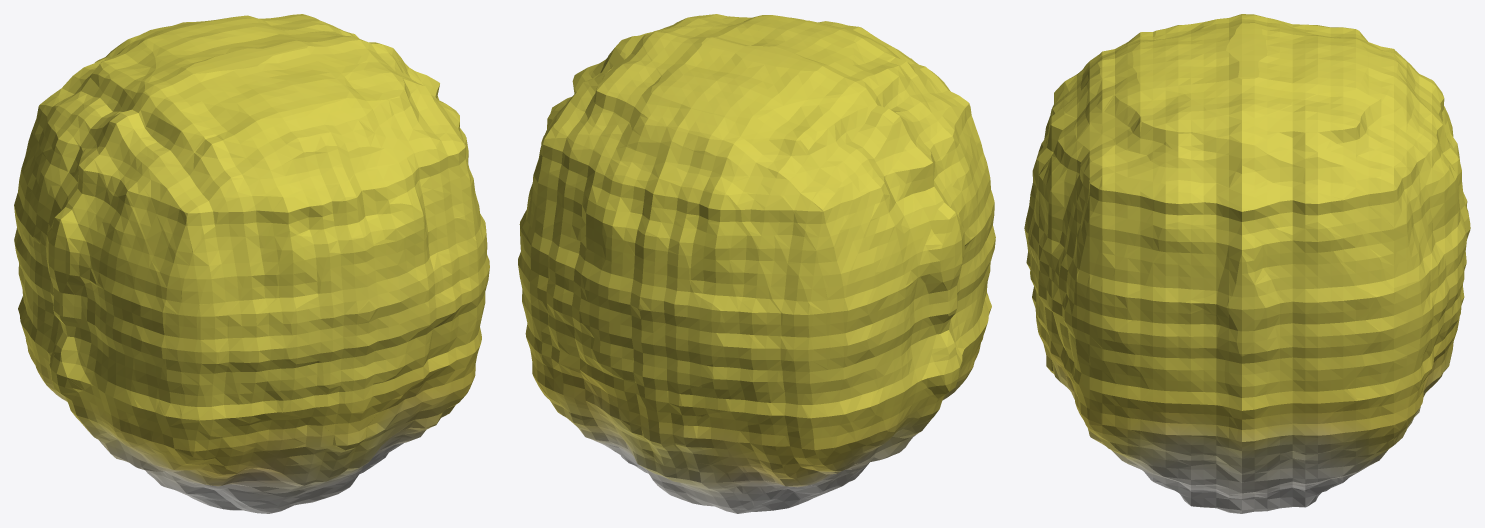
3 views of the same model, side by side, from view 1: azimuth 30°, elevation 25°; view 2: azimuth 150°, elevation 25°; view 3: azimuth 270°, elevation 25° (orthographic).
Parts seen in each view (by area): view 1: geometry_0; view 2: geometry_0; view 3: geometry_0.
Boxes of the visible parts, x1,y1,x2,y2 form: geometry_0: (14,14,489,513); geometry_0: (518,14,995,513); geometry_0: (1024,14,1470,513).
Bounding box in the file's own units: 1.53 × 1.58 × 1.5.
